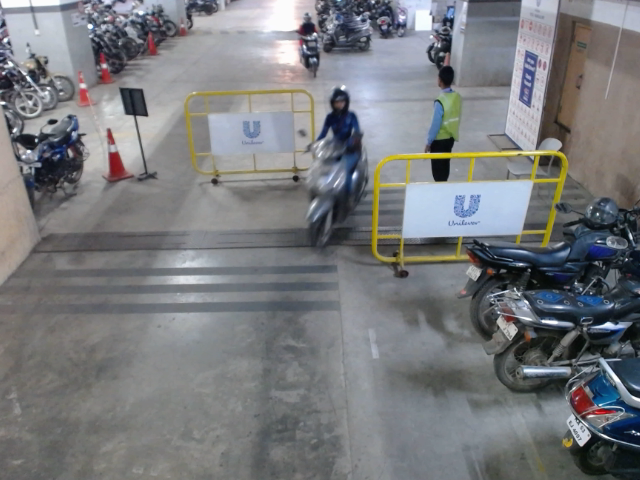with_helmet: (327, 90, 350, 112)
